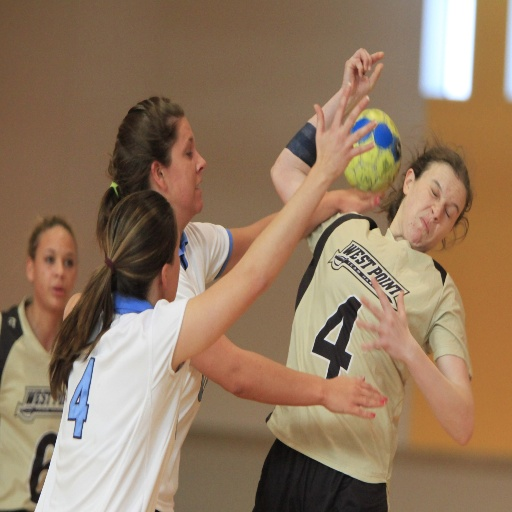hand: (308, 74, 380, 187), (353, 273, 410, 362), (324, 375, 389, 420), (342, 46, 384, 104), (335, 189, 386, 214)
